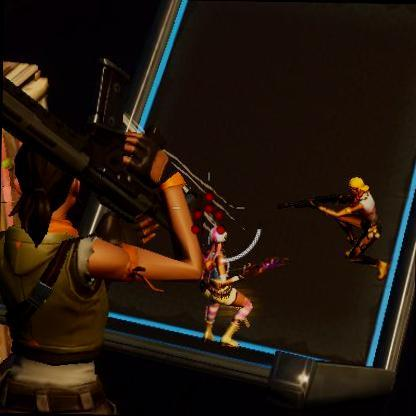person: (193, 230, 244, 354), (340, 164, 390, 274)
